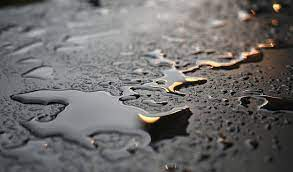Wet-floor: (19, 31, 257, 149), (14, 81, 197, 159), (177, 4, 293, 121)
